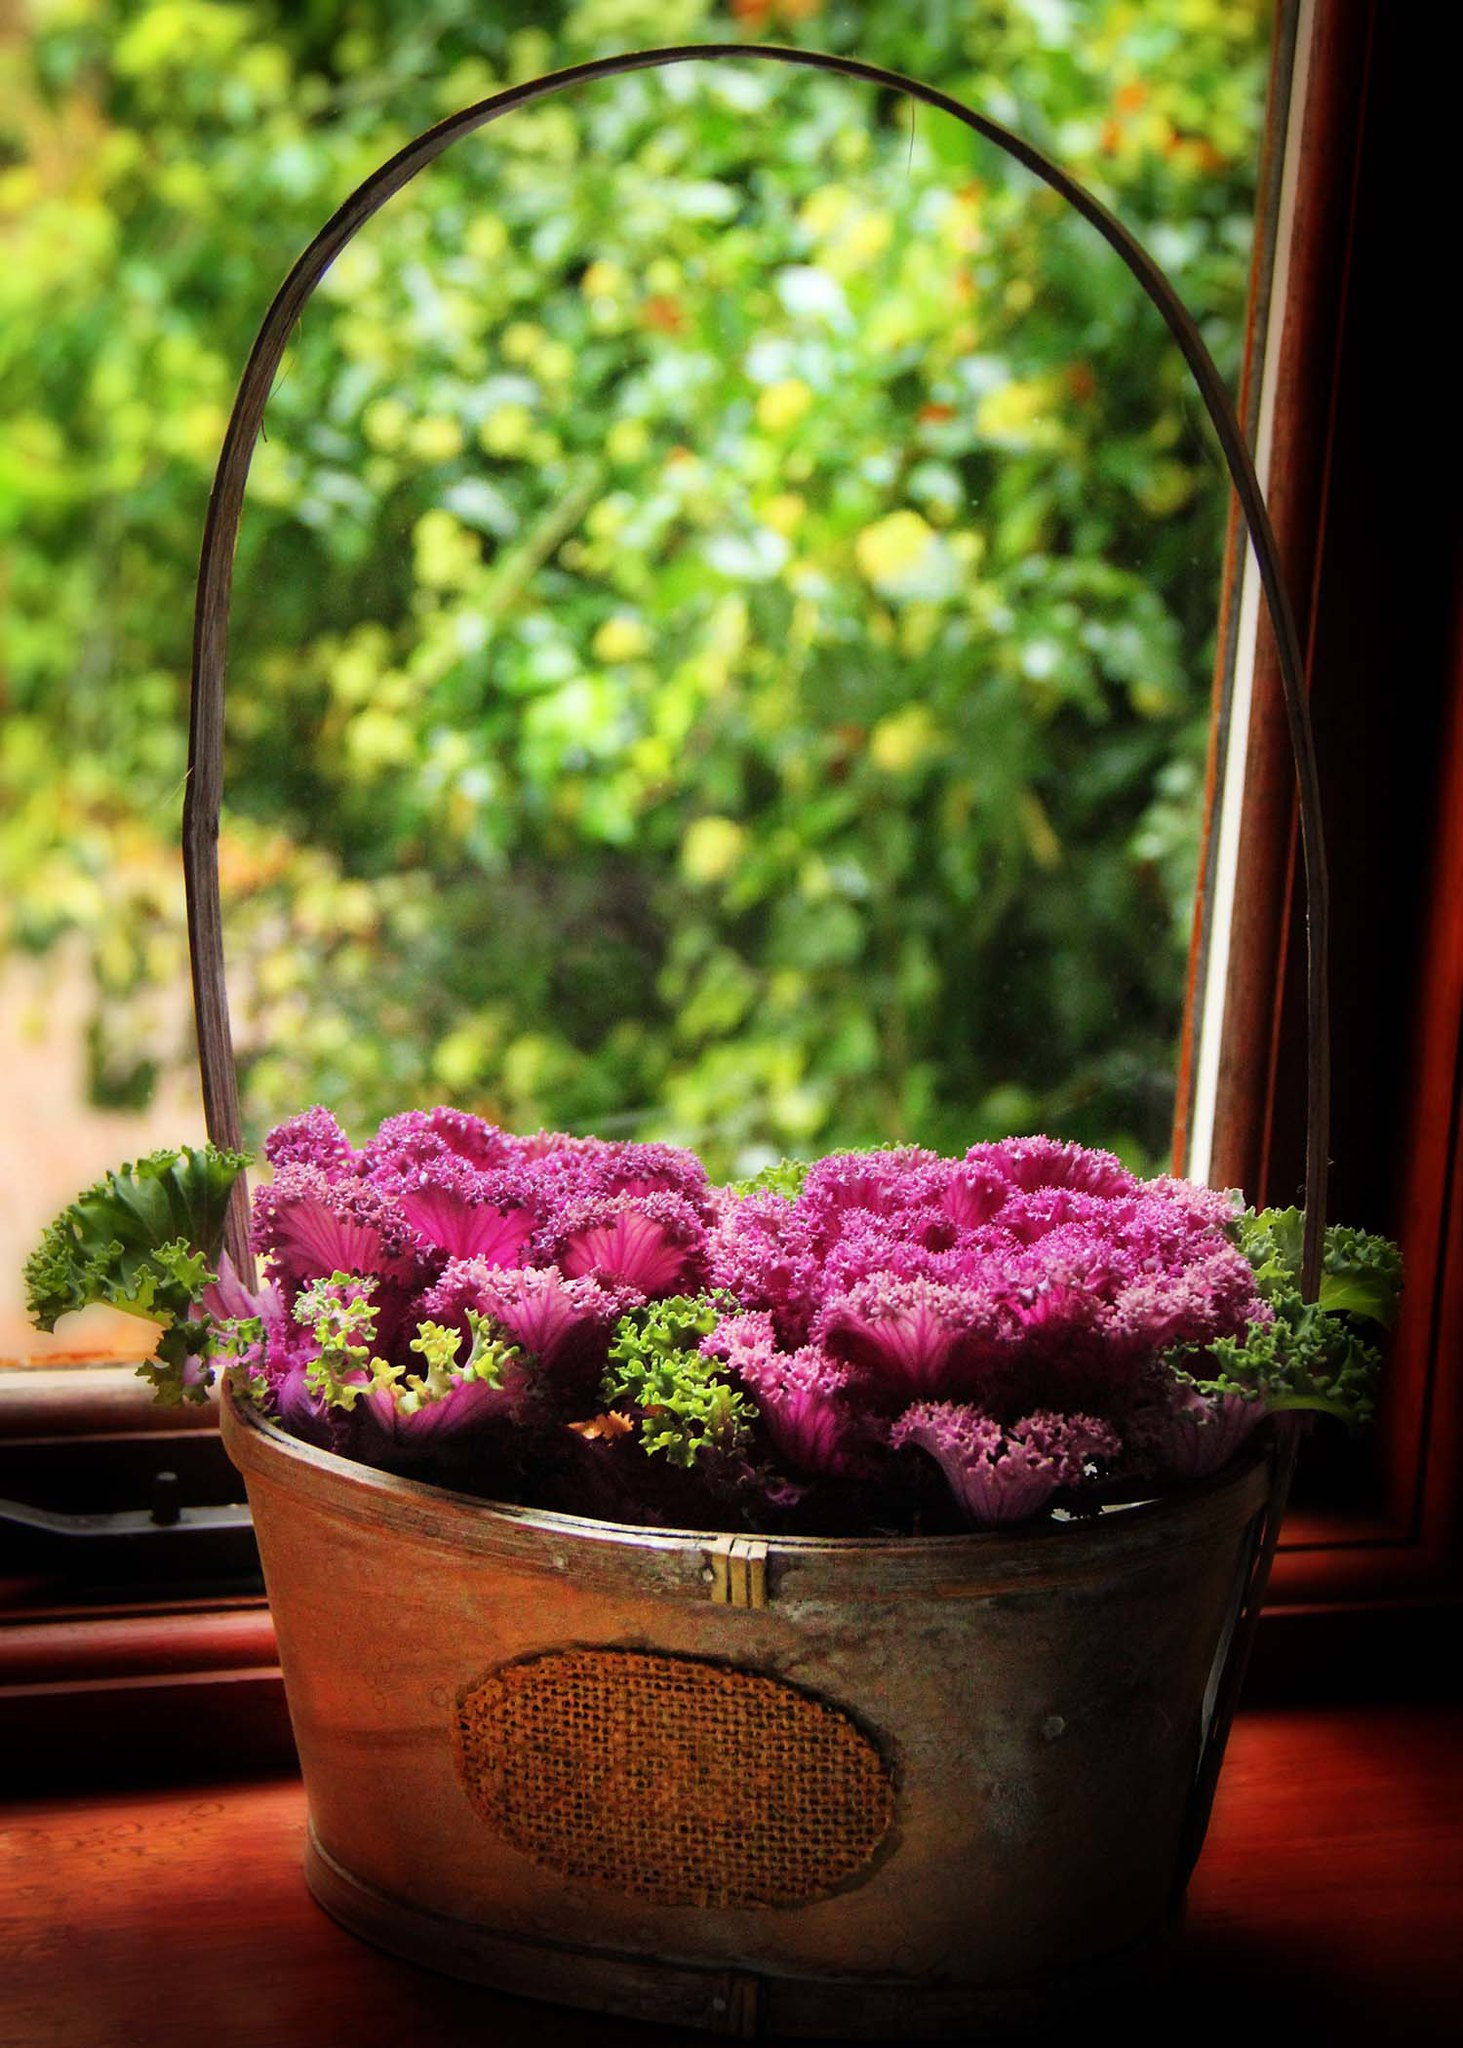potted plant: (128, 747, 1357, 2043)
